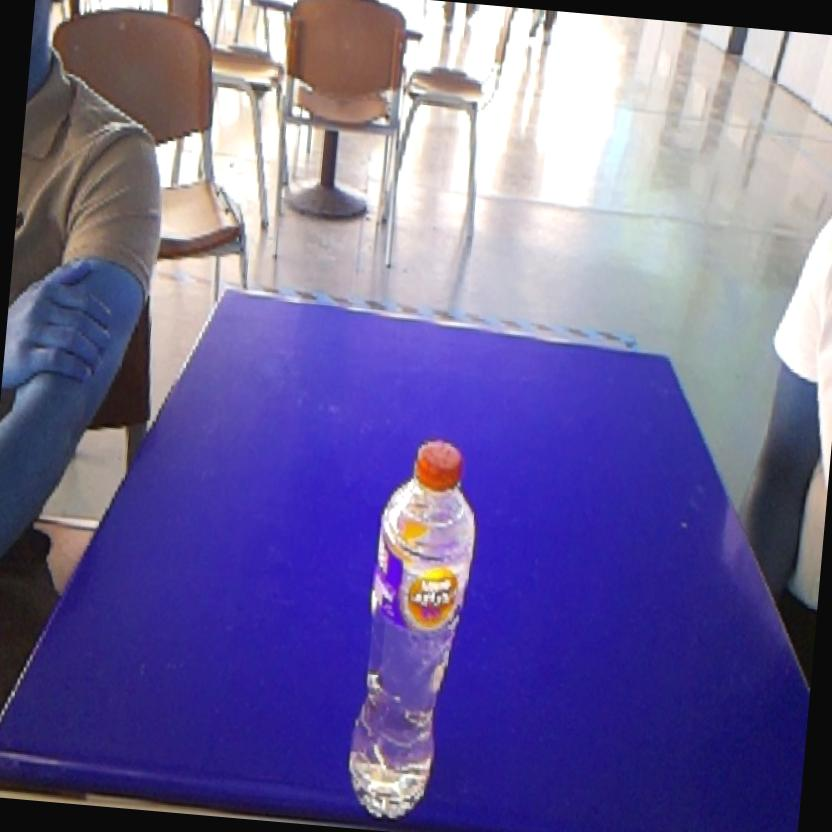good: (331, 412, 490, 832)
